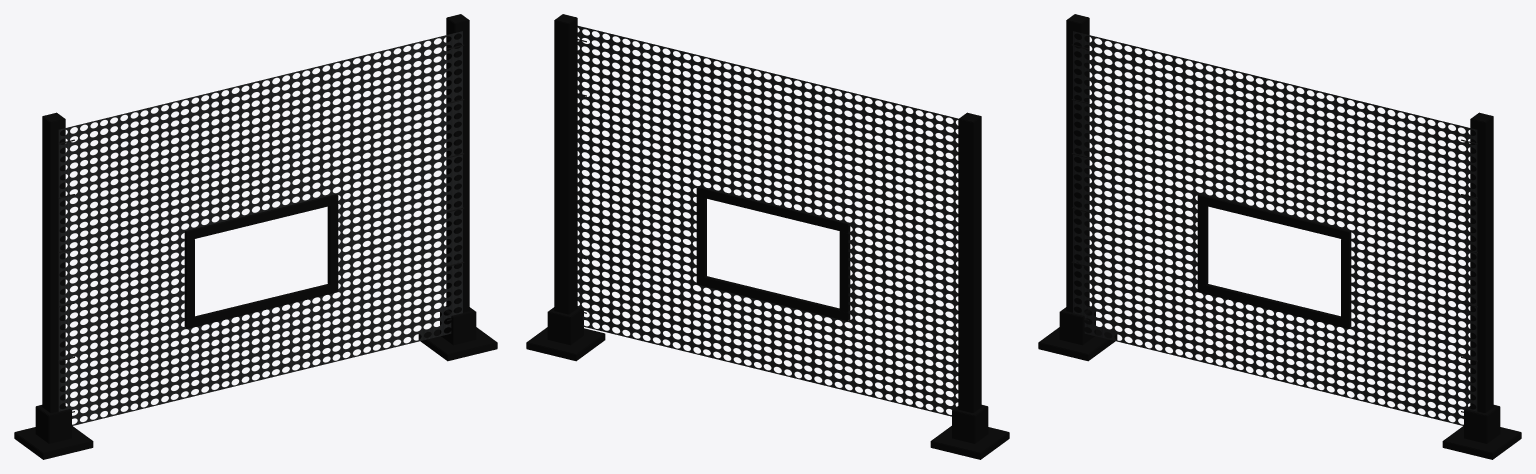
The model's file is obj_mesh_wall_black_low.glb.
3 views of the same model, side by side, from view 1: azimuth 30°, elevation 25°; view 2: azimuth 150°, elevation 25°; view 3: azimuth 330°, elevation 25° (orthographic).
Parts seen in each view (by area): view 1: mesh, mesh_wall_black_low_body; view 2: mesh, mesh_wall_black_low_body; view 3: mesh, mesh_wall_black_low_body.
Boxes of the visible parts, x1,y1,x2,y2 form: mesh: (58,31,462,425); mesh_wall_black_low_body: (14,14,497,459); mesh: (577,26,958,416); mesh_wall_black_low_body: (526,14,1009,459); mesh: (1073,31,1477,425); mesh_wall_black_low_body: (1038,14,1521,459).
Bounding box in the file's own units: 2.7 × 1.85 × 0.3.
3 materials, 2 textured.
